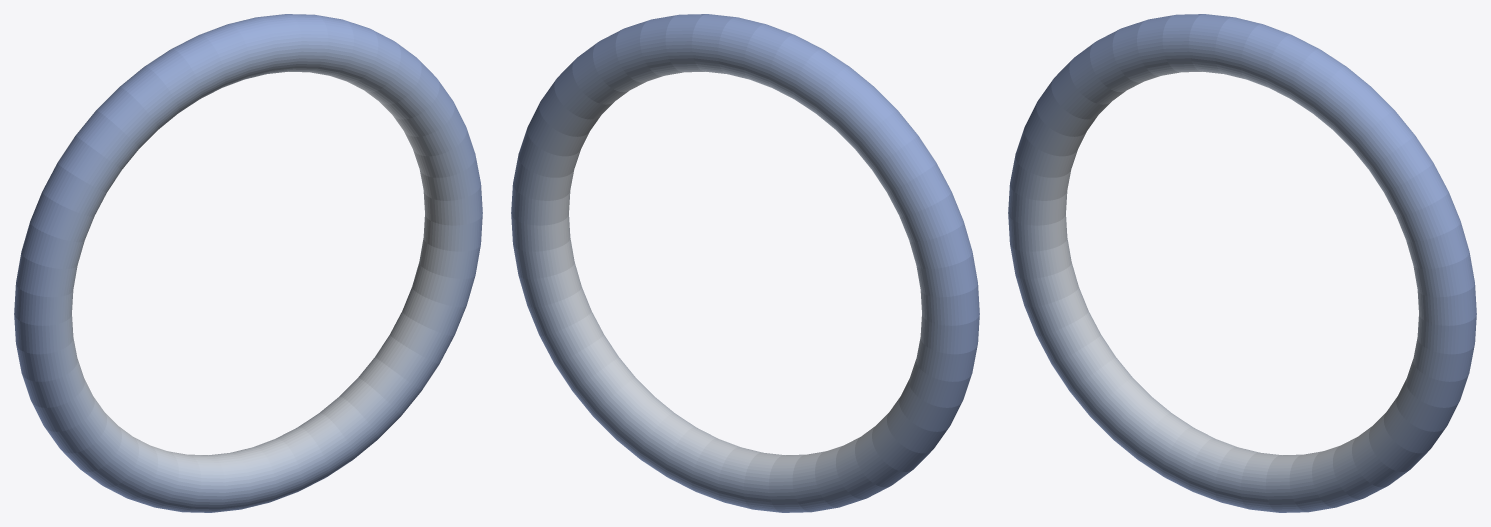
3 renders of one model, left to right at view 1: azimuth 30°, elevation 25°; view 2: azimuth 150°, elevation 25°; view 3: azimuth 330°, elevation 25°, orthographic.
Visible parts, largest first — view 1: world; view 2: world; view 3: world.
Part boxes in pixels (<box>): world: <box>14,14,482,512</box>; world: <box>511,14,979,512</box>; world: <box>1008,14,1476,512</box>.
Size of the model in its own units: 30.67 by 30.61 by 3.33.
